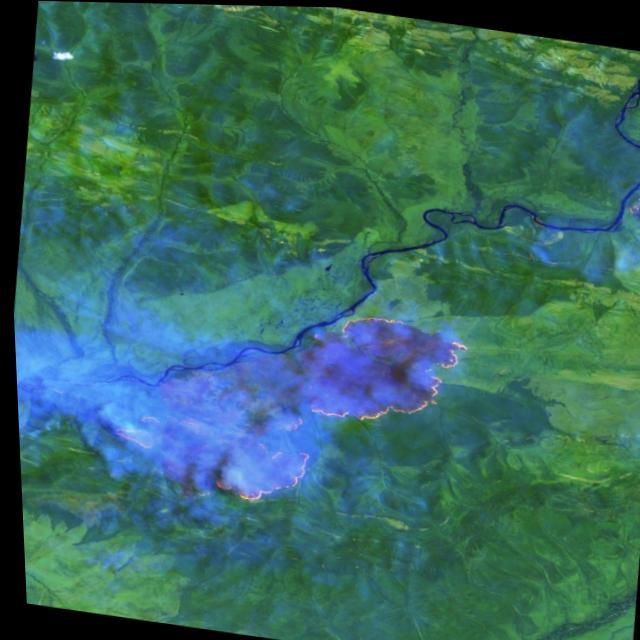fire: (197, 291, 479, 531)
